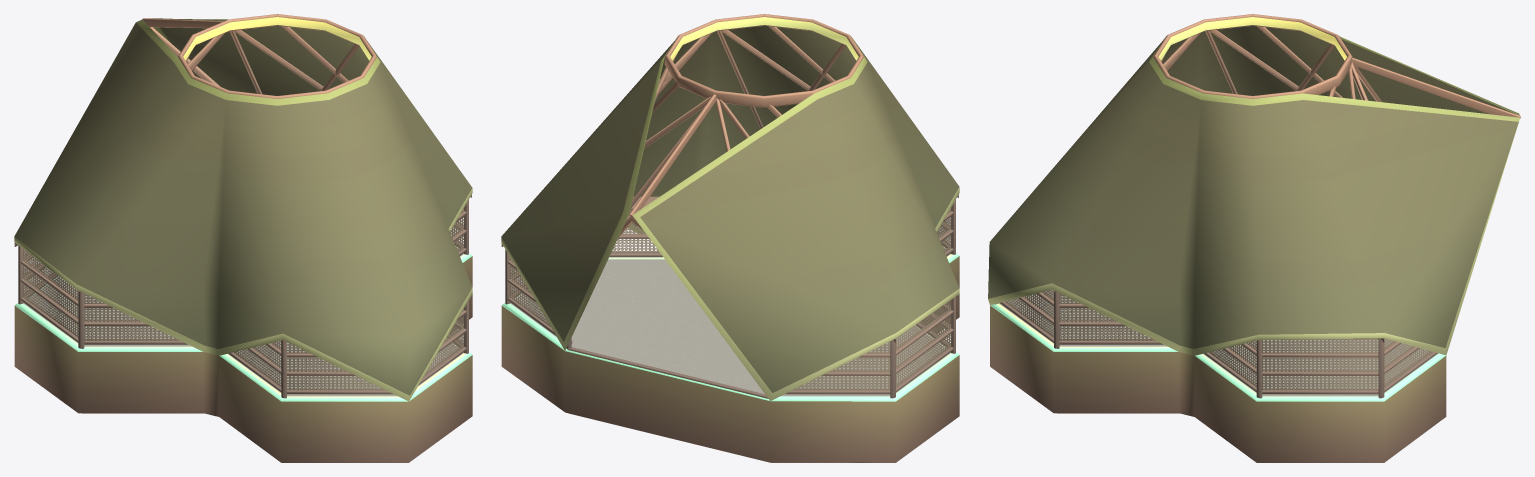
Rendered from dpmarket_sage.glb.
3 views of the same model, side by side, from view 1: azimuth 30°, elevation 25°; view 2: azimuth 150°, elevation 25°; view 3: azimuth 270°, elevation 25° (orthographic).
Parts seen in each view (by area): view 1: tent-fabric.001, tent-base-floor, tent-screen, tent-horizontals, tent-ring, tent-structure, tent-verticals; view 2: tent-fabric.001, tent-base-floor, tent-screen, tent-structure, tent-horizontals, tent-ring, tent-verticals; view 3: tent-fabric.001, tent-base-floor, tent-screen, tent-horizontals, tent-structure, tent-ring, tent-verticals.
Part boxes in pixels (x1,y1,x2,y2): tent-fabric.001: [14, 18, 472, 401]; tent-base-floor: [14, 246, 472, 462]; tent-screen: [23, 208, 464, 390]; tent-horizontals: [20, 209, 466, 394]; tent-ring: [178, 14, 376, 98]; tent-structure: [14, 18, 471, 344]; tent-verticals: [18, 200, 468, 398]; tent-fabric.001: [501, 25, 959, 400]; tent-base-floor: [501, 246, 959, 462]; tent-screen: [510, 208, 951, 390]; tent-structure: [501, 26, 958, 342]; tent-horizontals: [507, 196, 953, 398]; tent-ring: [664, 14, 863, 107]; tent-verticals: [505, 200, 955, 398]; tent-fabric.001: [988, 25, 1519, 355]; tent-base-floor: [990, 290, 1446, 462]; tent-screen: [1005, 290, 1432, 390]; tent-horizontals: [999, 292, 1437, 394]; tent-structure: [1052, 26, 1520, 344]; tent-ring: [1153, 14, 1352, 98]; tent-verticals: [995, 291, 1384, 398].
Size of what is drawn, in the model's own units: 6.76 by 5.13 by 7.88.
Materials: 5 (5 with a texture image).
